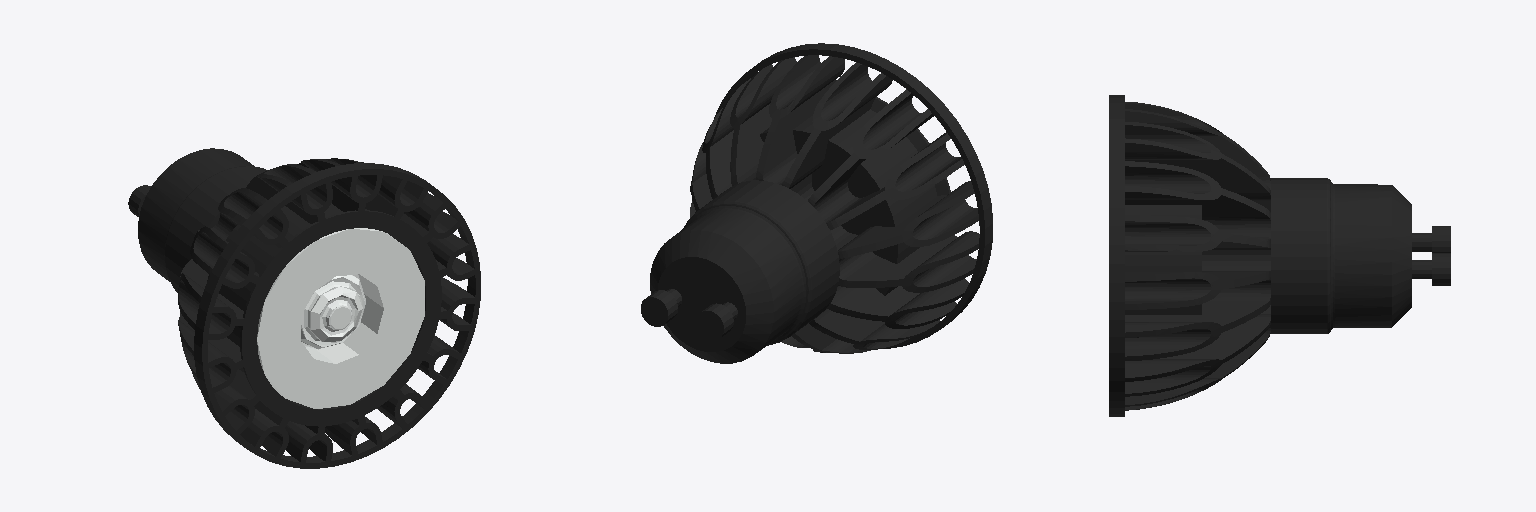
3 views of the same model, side by side, from view 1: azimuth 30°, elevation 25°; view 2: azimuth 150°, elevation 25°; view 3: azimuth 270°, elevation 25° (orthographic).
Parts seen in each view (by area): view 1: GU_10.001; view 2: GU_10.001; view 3: GU_10.001.
Boxes of the visible parts, x1,y1,x2,y2 form: GU_10.001: [128, 148, 480, 468]; GU_10.001: [641, 43, 992, 363]; GU_10.001: [1109, 95, 1450, 416].
Bounding box in the file's own units: 0.0503 × 0.0502 × 0.0535.